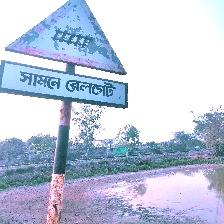Rail-crossing: (0, 0, 129, 109)
